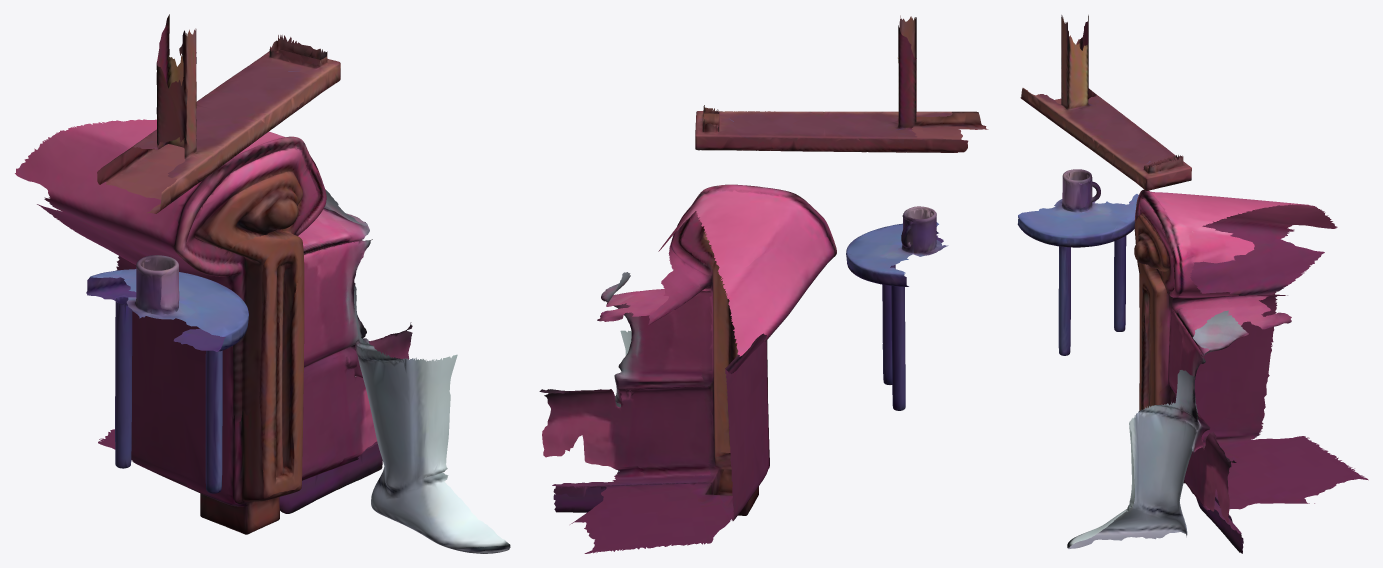
File: canon-desk.glb
3 views of the same model, side by side, from view 1: azimuth 30°, elevation 25°; view 2: azimuth 150°, elevation 25°; view 3: azimuth 270°, elevation 25° (orthographic). The views are drawn at different scales.
Visible parts, largest first — view 1: desk; view 2: desk; view 3: desk.
Part boxes in pixels (<box>): desk: <box>15,14,510,553</box>; desk: <box>539,15,988,553</box>; desk: <box>1017,15,1368,553</box>.
Bounding box in the file's own units: 0.4026 × 0.55 × 0.4072.
1 material, 1 textured.
